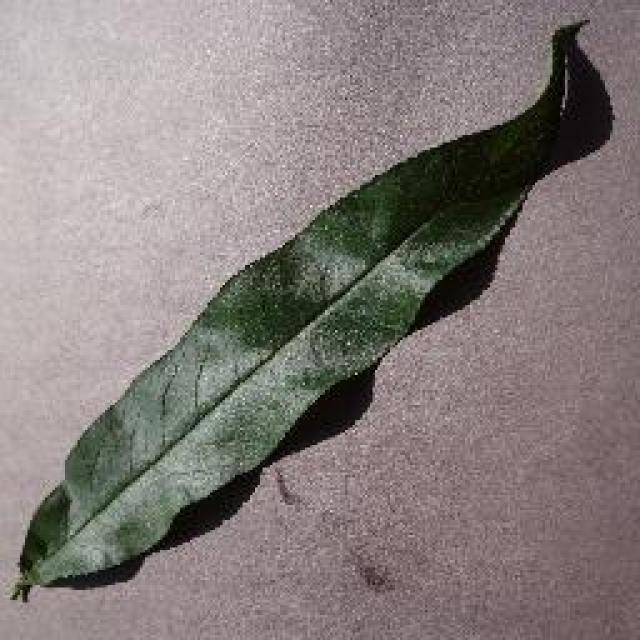Pea_healthy: (60, 105, 582, 547)
